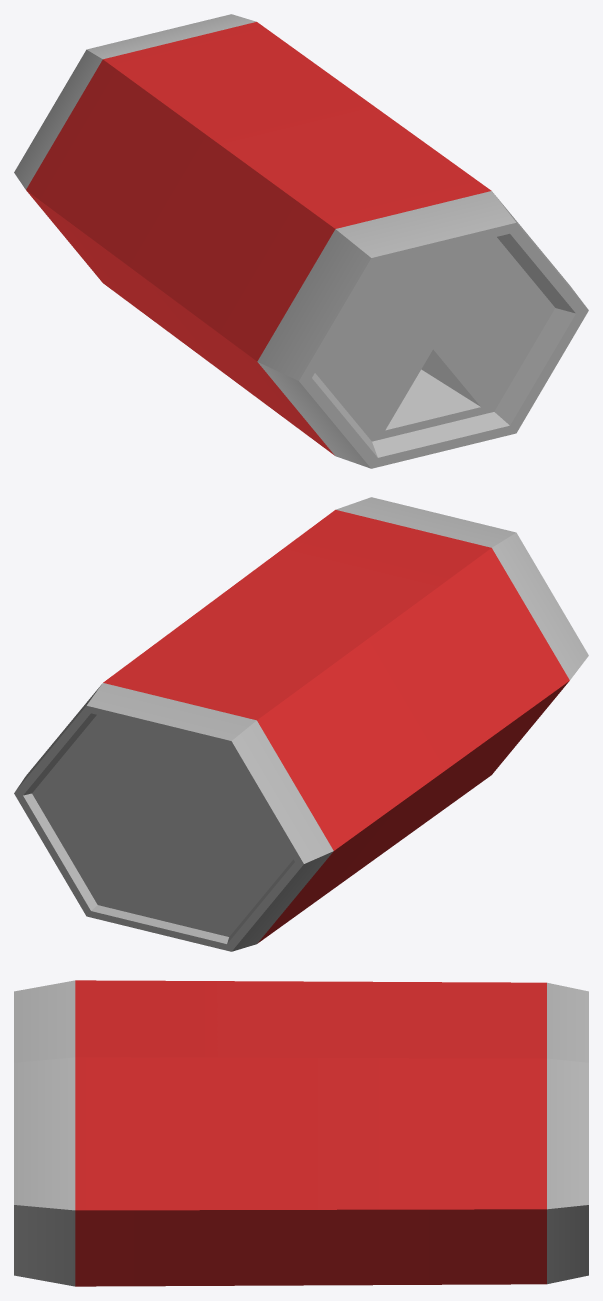
Rendered from Soda_can.fbx.
The picture shows the model from 3 angles, top to bottom: view 1: azimuth 30°, elevation 25°; view 2: azimuth 150°, elevation 25°; view 3: azimuth 270°, elevation 25°; orthographic projection.
Parts seen in each view (by area): view 1: Soda_Can; view 2: Soda_Can; view 3: Soda_Can.
Part boxes in pixels (box(x1,y1,x2,y2)): Soda_Can: box(14, 14, 588, 468); Soda_Can: box(14, 497, 588, 951); Soda_Can: box(14, 980, 588, 1286).
Size of the model in its own units: 0.7552 by 0.5244 by 1.19.
